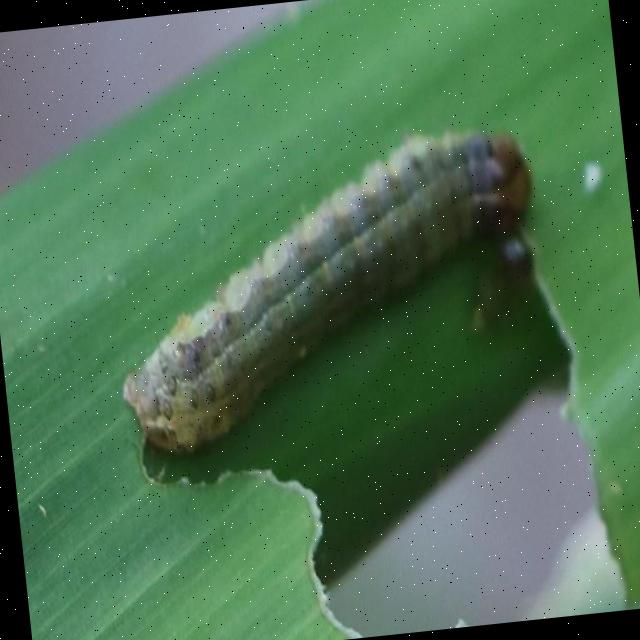worm: (99, 120, 559, 462)
